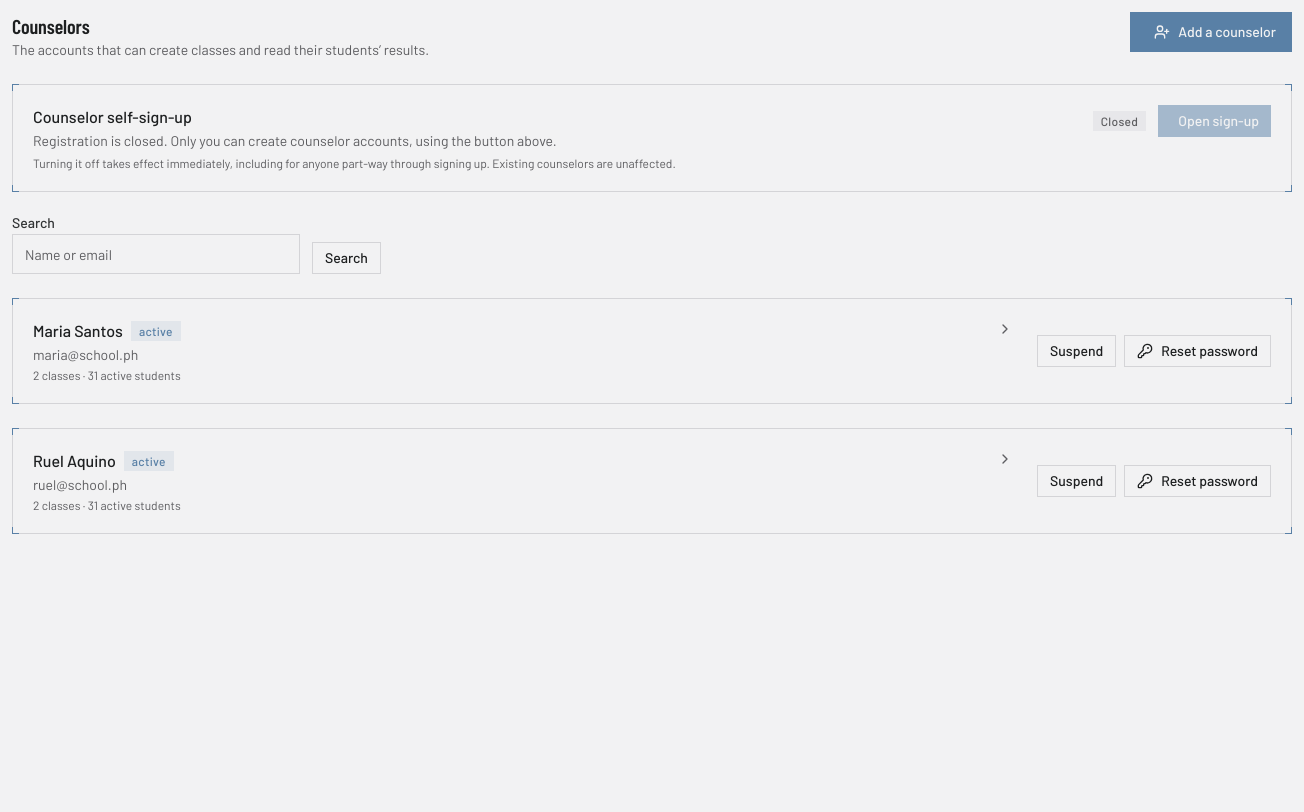
Test: CounselorManagementPage — reset password › shows the issued temporary password once, against the counselor it belongs to
Click the button "Reset password" in the row of "maria@school.ph" at (1198, 351), box [1124,335,1271,367]
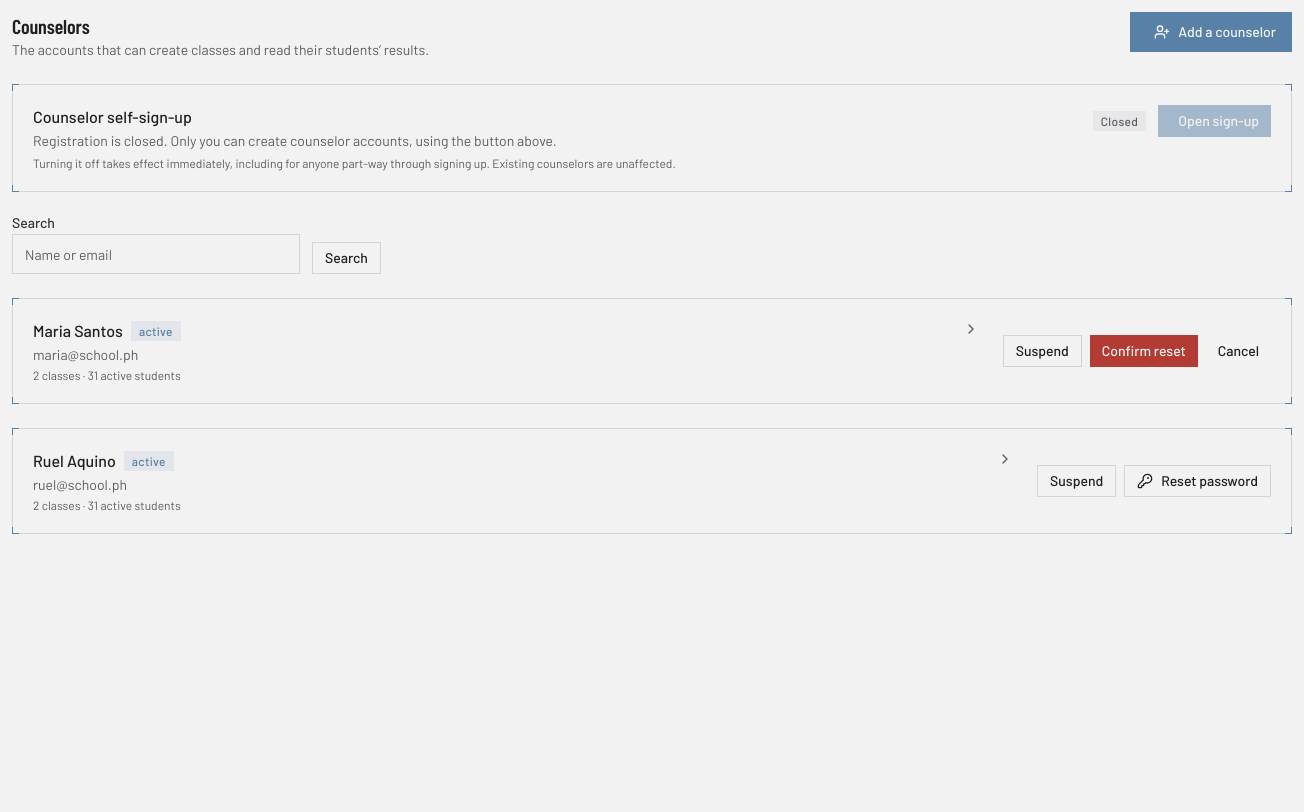
Click the button "Confirm reset" at (1144, 351), box [1090,335,1198,367]
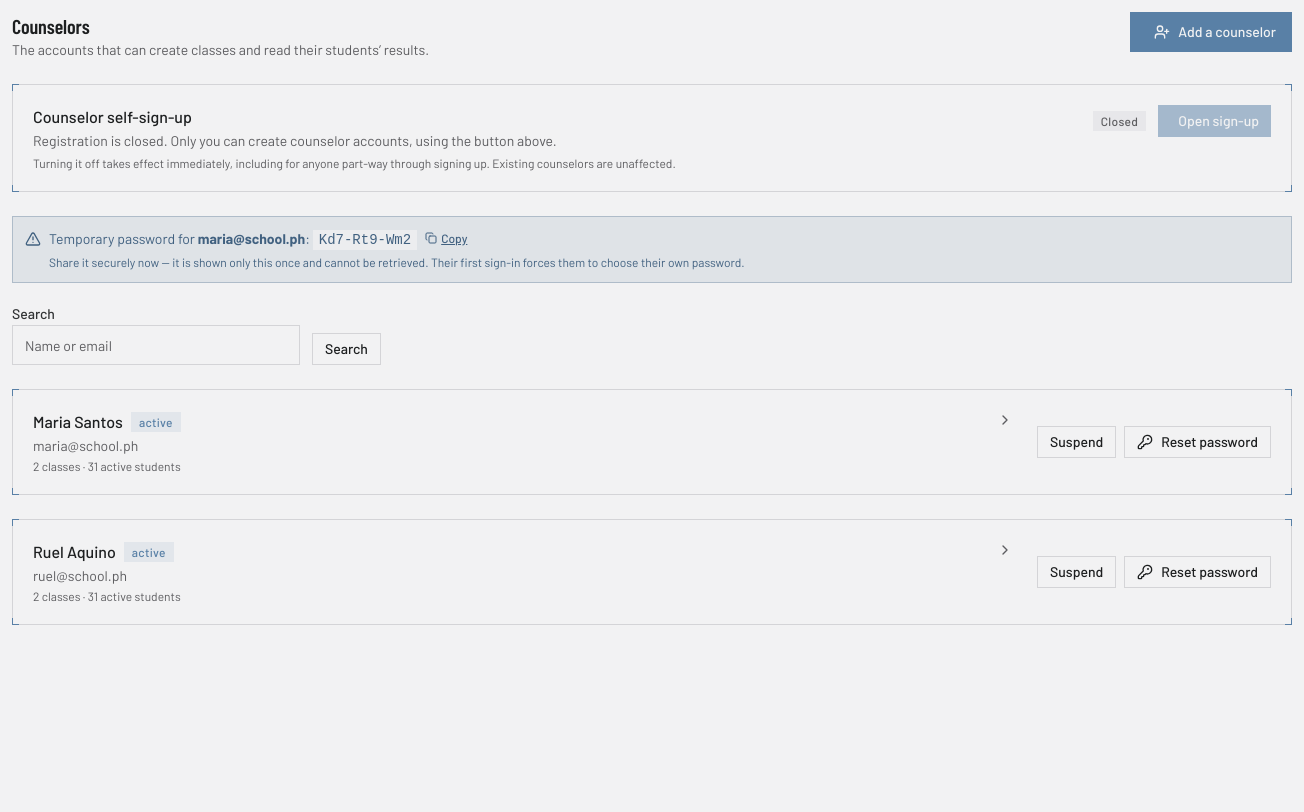
Result: the text "Kd7-Rt9-Wm2" is shown at [313,230,417,250]
Result: the message shows "maria@school.ph" at [198,230,305,247]
Result: the message shows "shown only this once and cannot be retrieved" at [49,255,745,269]
